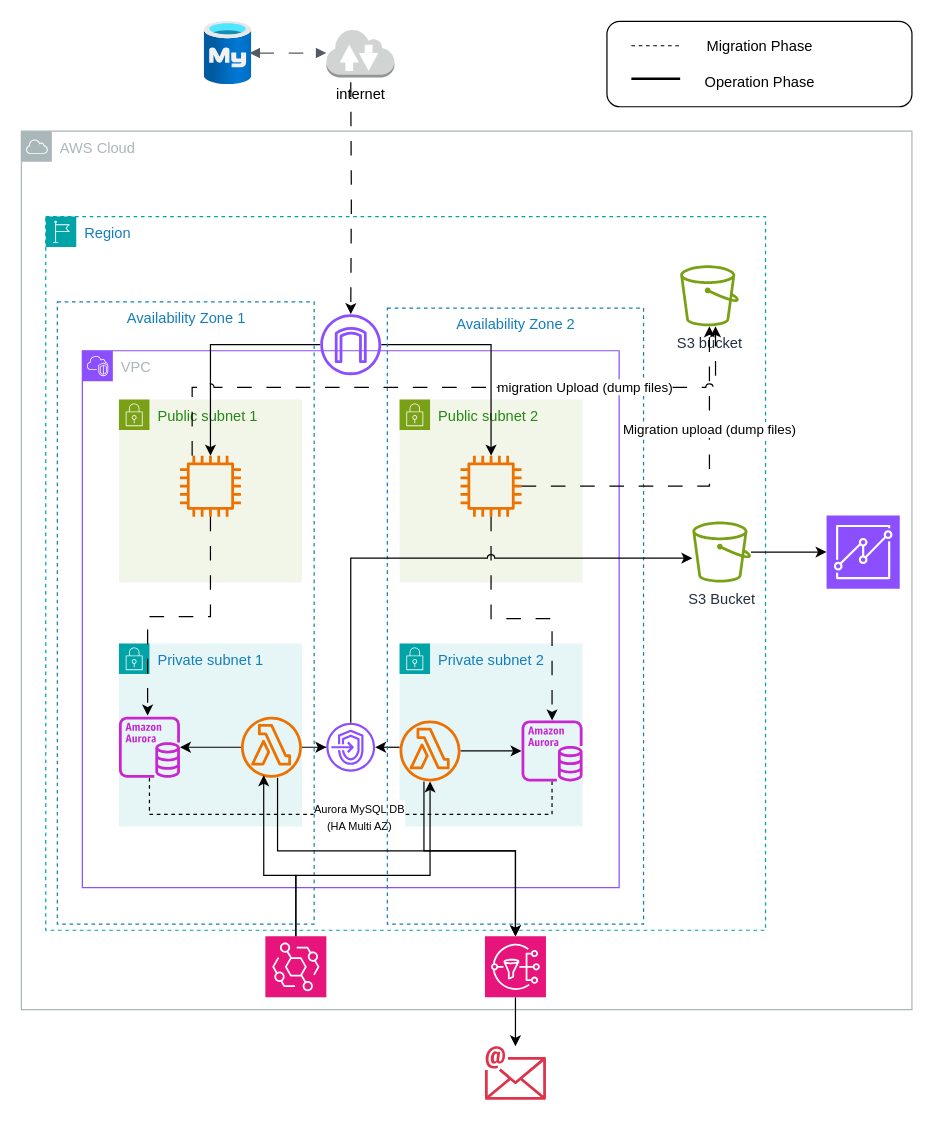
This 933x1121 diagram has some shape labels left out. The shapes that lost their labels are listed below. From the top down, each one's centre as x and y in pixels, then its label:
point (350, 344): internet Gateway
point (209, 485): Bastion Host 1
point (490, 485): Bastion Host 2
point (862, 551): Dashboard
point (350, 746): S3 Gateway
point (295, 966): EventBridge (Lambda Schedular)
point (515, 966): SNS
